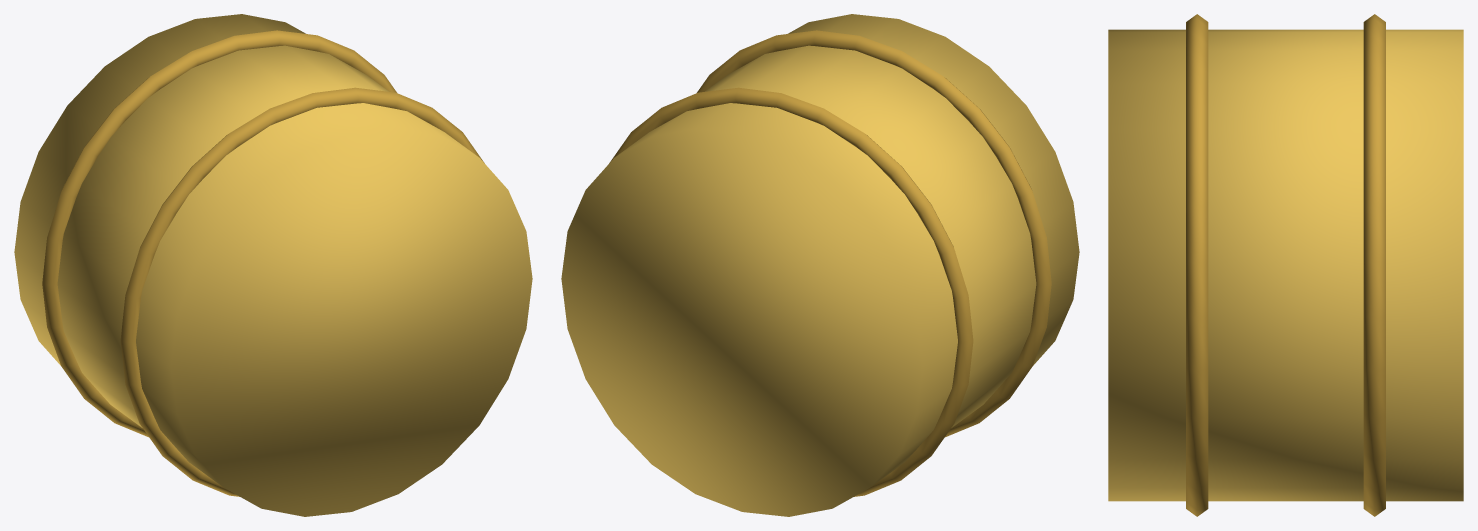
File: P_HayBale.fbx
3 views of the same model, side by side, from view 1: azimuth 30°, elevation 25°; view 2: azimuth 150°, elevation 25°; view 3: azimuth 270°, elevation 25° (orthographic). The views are drawn at different scales.
Parts seen in each view (by area): view 1: P_HayBale__Hay, P_HayBale__HayDark; view 2: P_HayBale__Hay, P_HayBale__HayDark; view 3: P_HayBale__Hay, P_HayBale__HayDark.
Boxes of the visible parts, x1,y1,x2,y2 form: P_HayBale__Hay: (14,14,532,516); P_HayBale__HayDark: (42,30,484,496); P_HayBale__Hay: (561,14,1079,516); P_HayBale__HayDark: (609,30,1051,496); P_HayBale__Hay: (1108,29,1463,501); P_HayBale__HayDark: (1186,14,1385,516).
Bounding box in the file's own units: 3.4 × 3.4 × 2.4.
